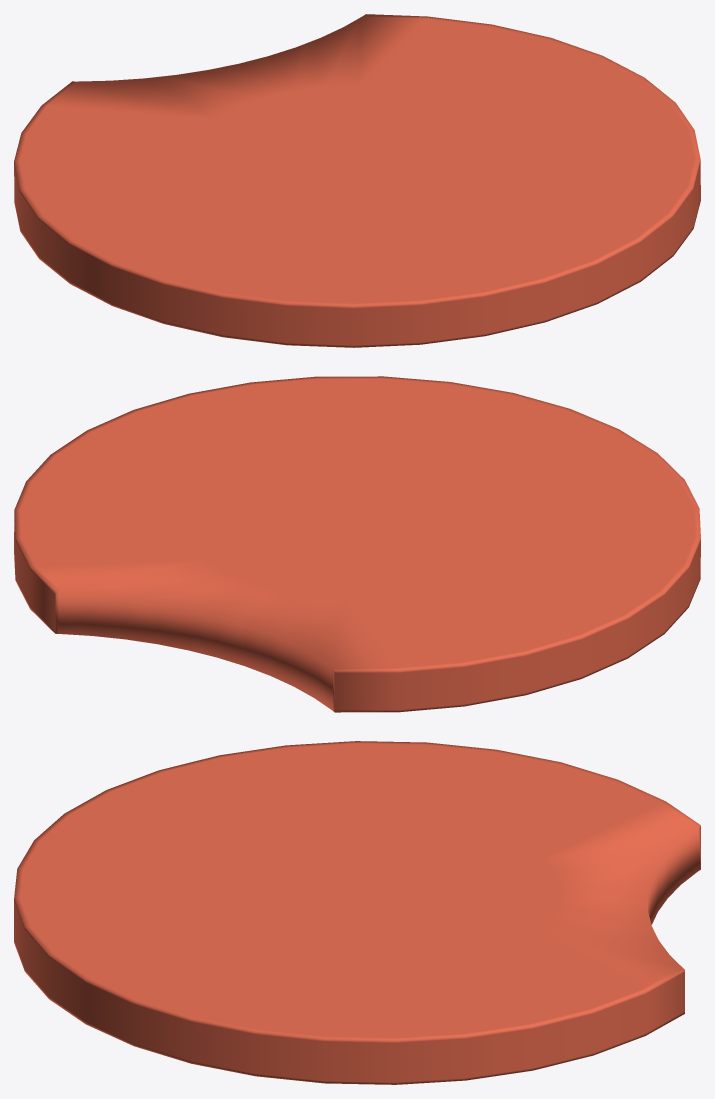
Rendered from filing.glb.
The picture shows the model from 3 angles, top to bottom: view 1: azimuth 30°, elevation 25°; view 2: azimuth 150°, elevation 25°; view 3: azimuth 270°, elevation 25°; orthographic projection. The views are drawn at different scales.
Parts seen in each view (by area): view 1: Cylinder.001; view 2: Cylinder.001; view 3: Cylinder.001.
Part boxes in pixels (x1=…): Cylinder.001: x1=14, y1=14, x2=700, y2=347; Cylinder.001: x1=14, y1=376, x2=700, y2=712; Cylinder.001: x1=14, y1=741, x2=700, y2=1084.
Size of the model in its own units: 2 by 0.155 by 1.89.
